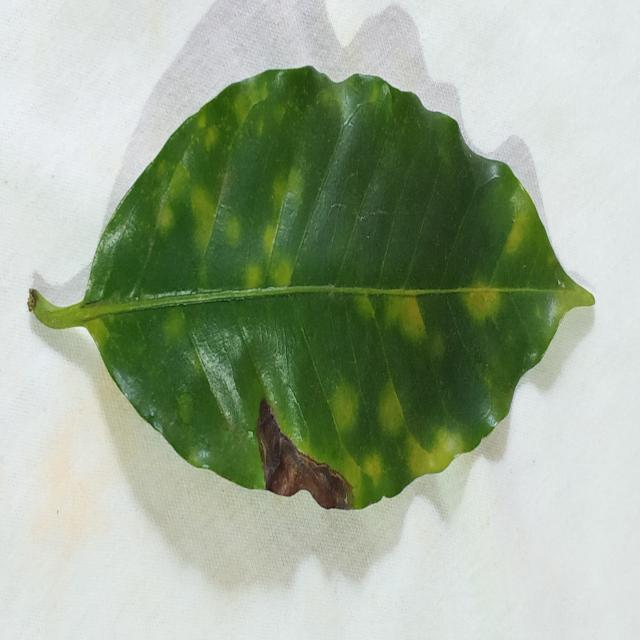Enfermedad-Roya: (27, 67, 595, 513)
